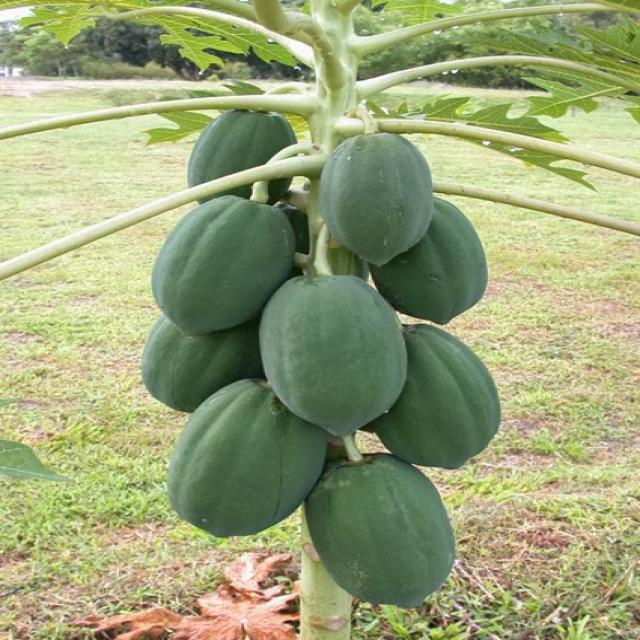Pepaya unrippen: (158, 393, 319, 542), (267, 279, 399, 431), (144, 194, 282, 338), (309, 471, 456, 604), (324, 134, 431, 266), (405, 340, 503, 473), (181, 107, 295, 201)
